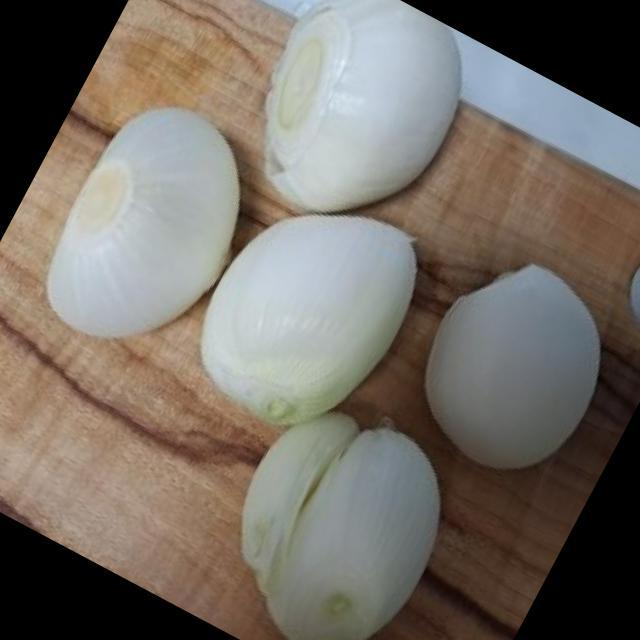Onion: (235, 414, 439, 640), (43, 112, 236, 343), (202, 218, 411, 419), (264, 0, 462, 210), (430, 266, 599, 470)
